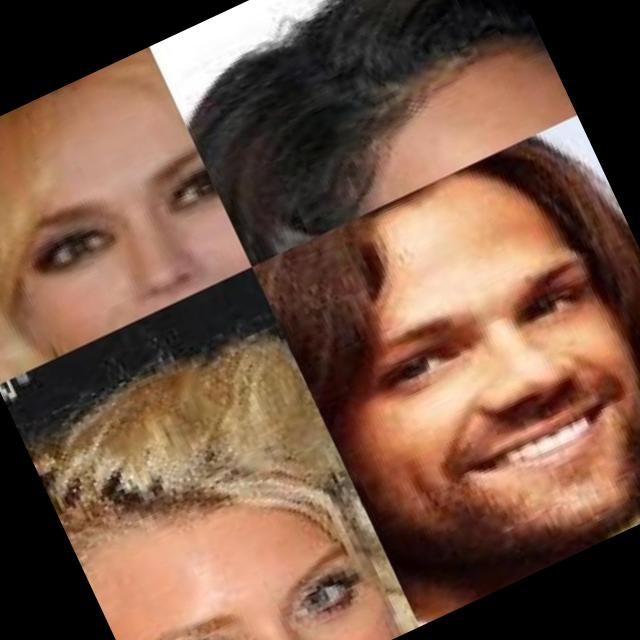bareface: (290, 136, 640, 592)
